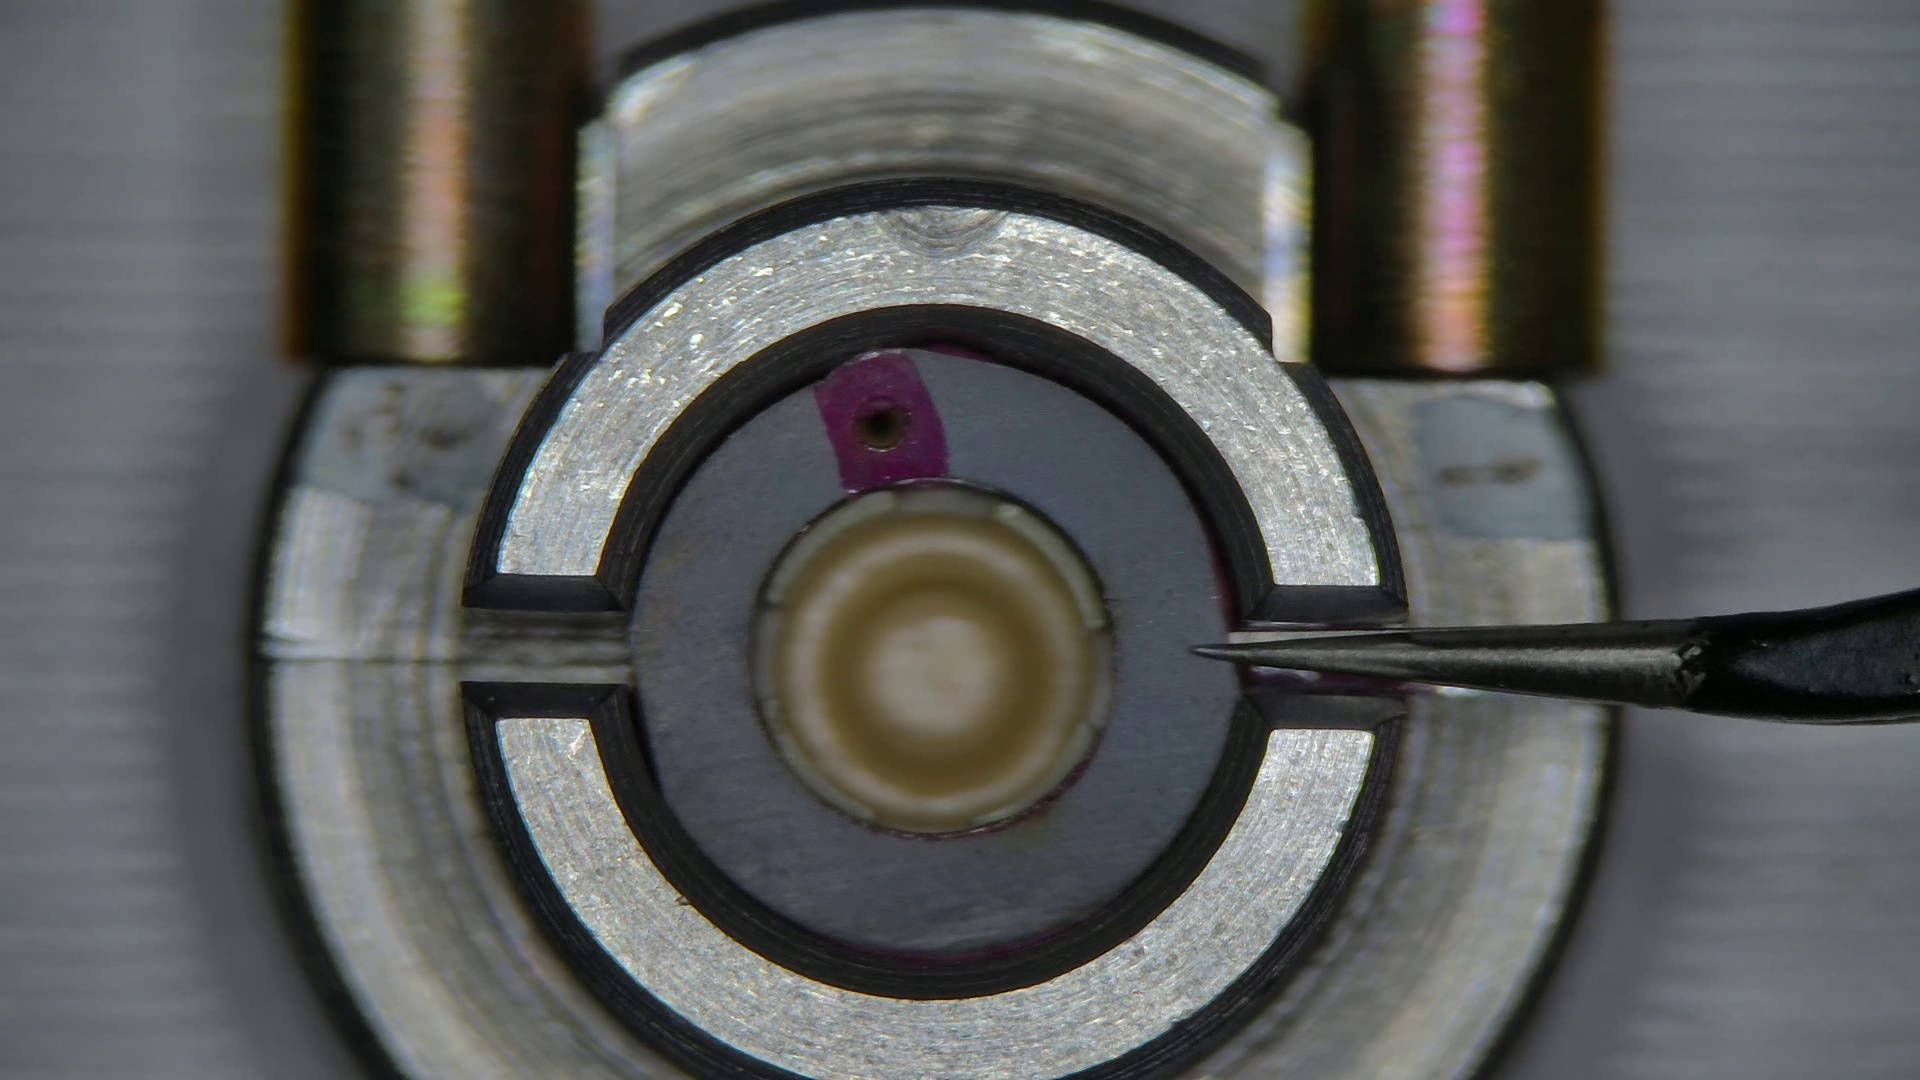YellowOring: (636, 349, 1232, 957)
